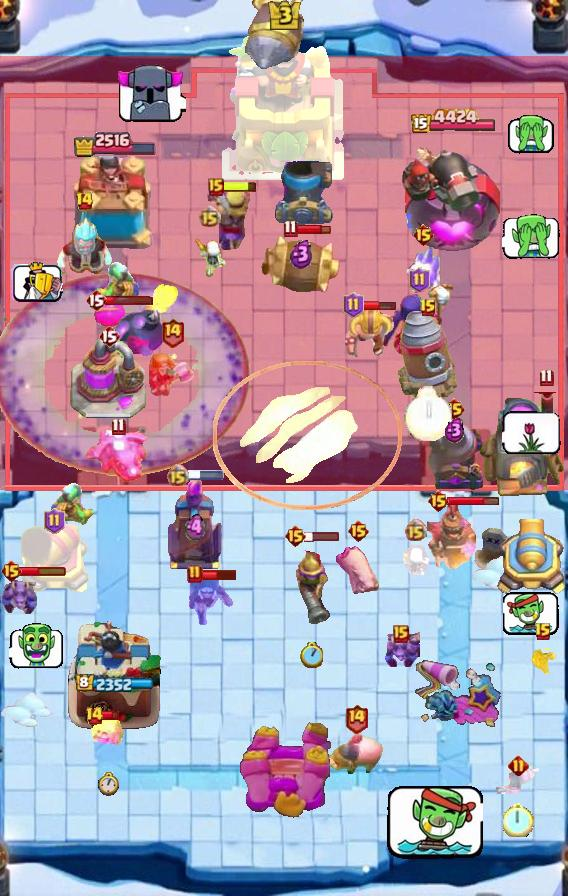bandit: (185, 571, 233, 627)
bar: (14, 565, 67, 577), (447, 496, 500, 507), (104, 295, 154, 306), (201, 568, 238, 581), (222, 180, 258, 193), (304, 530, 340, 542), (296, 223, 331, 235), (361, 300, 397, 311), (186, 470, 224, 480), (101, 710, 120, 721)
bar-level: (344, 703, 369, 734), (160, 317, 185, 348), (0, 559, 23, 583), (284, 524, 307, 548), (347, 519, 370, 543), (427, 489, 450, 513), (443, 397, 466, 421), (412, 223, 435, 247), (44, 508, 65, 534), (343, 292, 364, 318), (409, 267, 430, 293), (404, 519, 427, 542), (166, 464, 189, 487), (198, 205, 221, 228), (98, 324, 120, 348), (85, 288, 107, 312), (508, 755, 529, 776), (85, 706, 104, 726), (75, 191, 94, 211), (534, 622, 552, 642), (419, 298, 437, 318), (187, 564, 203, 584), (393, 625, 409, 643), (208, 178, 224, 196), (111, 417, 126, 436), (539, 368, 554, 387), (283, 219, 298, 238)
barbarian-barrel: (259, 233, 343, 295)
barbarian-evolution: (205, 186, 255, 252)
bat-evolution: (493, 764, 543, 794)
bomb: (112, 282, 184, 356)
cannoneer-tower: (402, 136, 504, 256)
clock: (404, 386, 452, 441), (503, 802, 534, 837), (300, 642, 323, 668), (98, 772, 119, 796)
electro-dragon: (84, 427, 152, 483)
elite-barbarian: (342, 307, 396, 361)
elixir: (290, 239, 313, 269), (185, 513, 205, 543), (444, 417, 465, 443)
elixir-golem-small: (93, 297, 125, 327)
emote: (384, 783, 483, 864), (114, 62, 186, 126), (503, 591, 560, 638), (502, 213, 560, 259), (502, 411, 561, 454), (9, 623, 64, 669), (10, 262, 63, 303), (507, 115, 556, 154)
heal-spirit: (90, 713, 126, 751)
hog: (332, 544, 384, 598)
ice-spirit-evolution: (403, 244, 443, 296)
ice-wizard: (53, 215, 115, 279)
king-tower: (222, 31, 346, 181)
minion: (0, 574, 40, 618), (382, 632, 420, 670)
mortar: (273, 161, 333, 225)
mortar-evolution: (422, 423, 486, 493)
musketeer: (290, 540, 332, 628)
queen-tower: (65, 617, 163, 731), (68, 156, 160, 256)
royal-hog: (326, 732, 386, 778)
royal-recruit: (427, 499, 482, 573)
skeleton: (191, 233, 227, 277), (398, 542, 432, 578), (529, 644, 557, 678)
spear-goblin: (47, 482, 97, 526), (93, 261, 143, 305)
tower-bar: (410, 108, 497, 136), (72, 130, 157, 158), (75, 674, 154, 694)
valkyrie: (148, 352, 196, 398)
witch: (381, 282, 457, 356)
